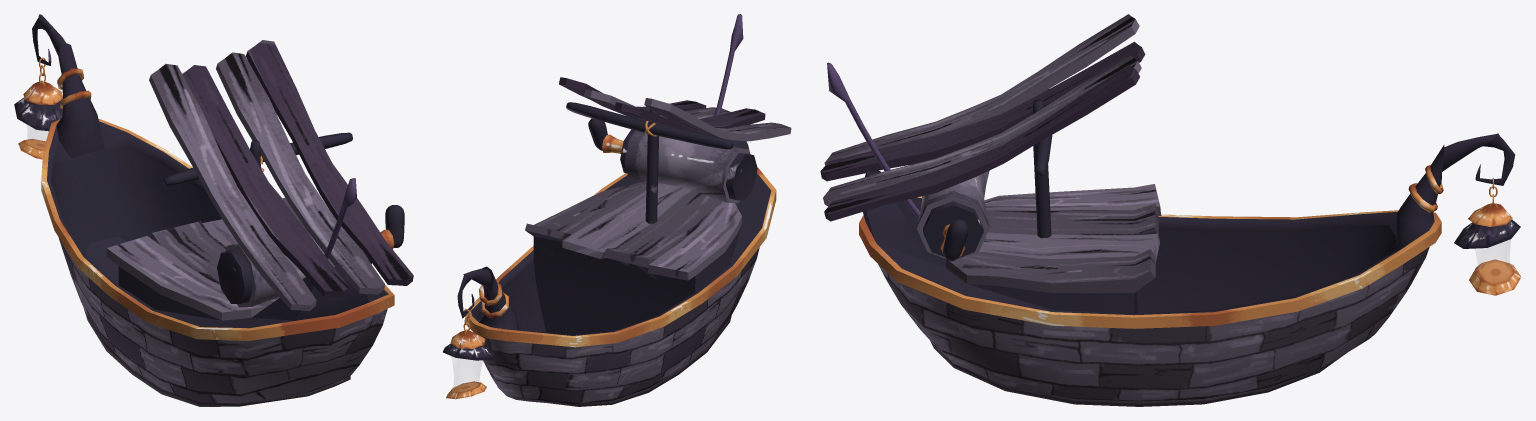
The model's file is Ship.fbx.
3 views of the same model, side by side, from view 1: azimuth 30°, elevation 25°; view 2: azimuth 150°, elevation 25°; view 3: azimuth 270°, elevation 25° (orthographic). The views are drawn at different scales.
Visible parts, largest first — view 1: Boat, Lantern; view 2: Boat, Lantern; view 3: Boat, Lantern.
Part boxes in pixels (x1=…): Boat: x1=32, y1=14, x2=413, y2=406; Lantern: x1=14, y1=57, x2=62, y2=159; Boat: x1=457, y1=14, x2=791, y2=406; Lantern: x1=443, y1=309, x2=496, y2=399; Boat: x1=820, y1=14, x2=1515, y2=406; Lantern: x1=1454, y1=177, x2=1521, y2=295.
Size of the model in its own units: 168 by 232 by 452.
